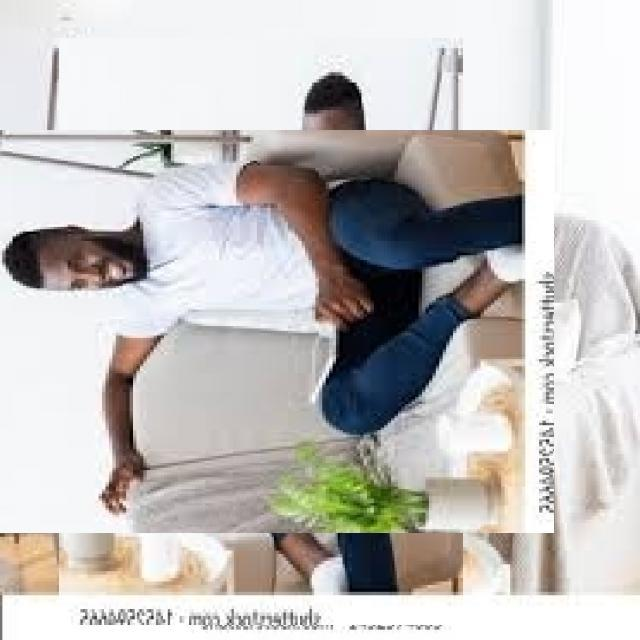NotFall: (34, 158, 587, 441)
